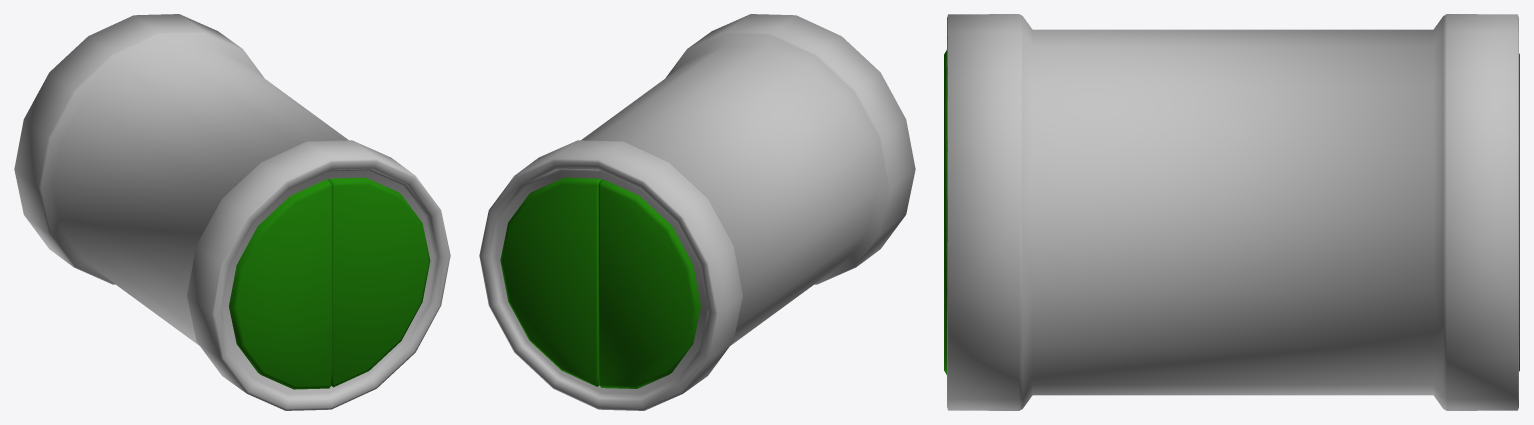
3 views of the same model, side by side, from view 1: azimuth 30°, elevation 25°; view 2: azimuth 150°, elevation 25°; view 3: azimuth 270°, elevation 25° (orthographic). The views are drawn at different scales.
Visible parts, largest first — view 1: Section_door.002; view 2: Section_door.002; view 3: Section_door.002.
Part boxes in pixels (left/top/right/bottom): Section_door.002: left=14, top=14, right=450, bottom=410; Section_door.002: left=479, top=14, right=915, bottom=410; Section_door.002: left=944, top=14, right=1519, bottom=410.
Size of the model in its own units: 3.48 by 3.48 by 5.02.
